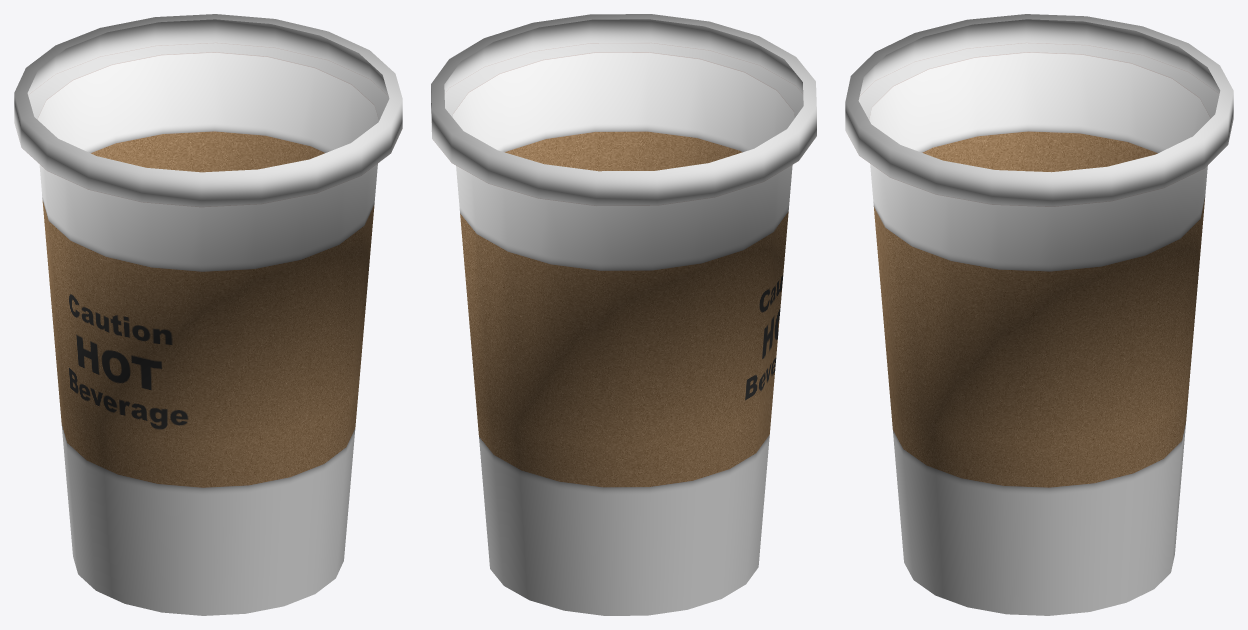
Rendered from SM_SodaCupExtraSmall.fbx.
3 renders of one model, left to right at view 1: azimuth 30°, elevation 25°; view 2: azimuth 150°, elevation 25°; view 3: azimuth 270°, elevation 25°, orthographic.
Visible parts, largest first — view 1: SM_SodaCupExtraSmall_LOD0; view 2: SM_SodaCupExtraSmall_LOD0; view 3: SM_SodaCupExtraSmall_LOD0.
Part boxes in pixels (x1=…): SM_SodaCupExtraSmall_LOD0: x1=14, y1=14, x2=402, y2=615; SM_SodaCupExtraSmall_LOD0: x1=431, y1=14, x2=816, y2=615; SM_SodaCupExtraSmall_LOD0: x1=845, y1=14, x2=1233, y2=615.
Size of the model in its own units: 6.94 by 6.94 by 9.14.
Materials: 1 (1 with a texture image).
